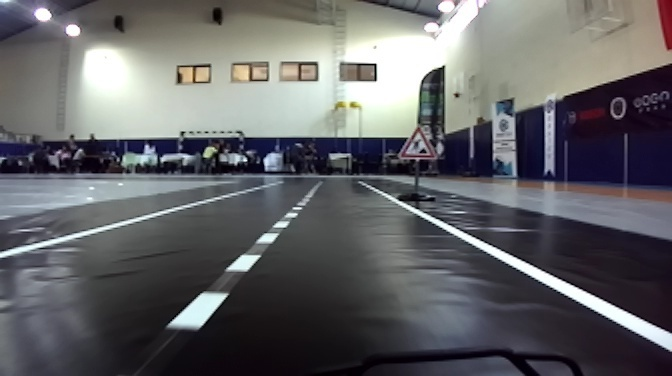yol_yapimi: (395, 122, 439, 162)
